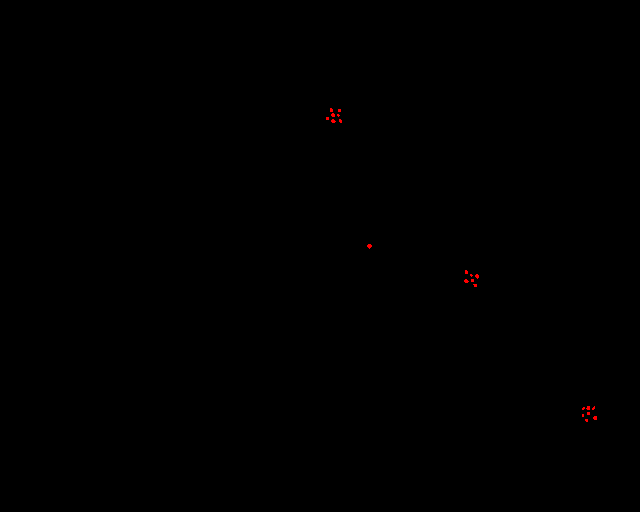Target: (367, 244, 372, 249), (331, 119, 336, 123), (475, 274, 479, 279), (464, 279, 469, 283), (331, 113, 335, 117), (586, 406, 590, 410), (593, 416, 597, 420), (330, 108, 333, 112), (339, 119, 342, 123), (465, 270, 468, 274), (473, 284, 477, 287), (592, 406, 595, 410), (338, 109, 341, 112), (337, 114, 340, 117), (326, 117, 329, 120), (470, 274, 473, 277), (471, 279, 474, 282), (582, 407, 585, 410), (587, 412, 590, 415), (585, 419, 588, 422), (582, 414, 584, 417)
